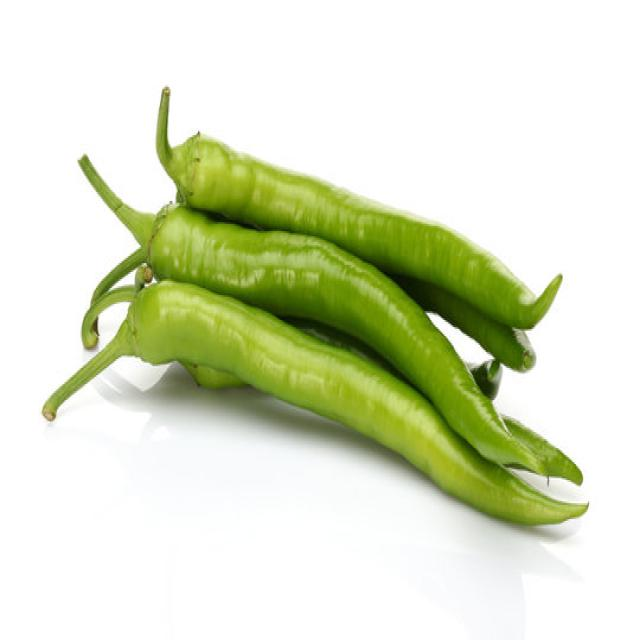Chilli: (124, 300, 584, 553), (81, 157, 542, 406), (154, 84, 562, 332)
